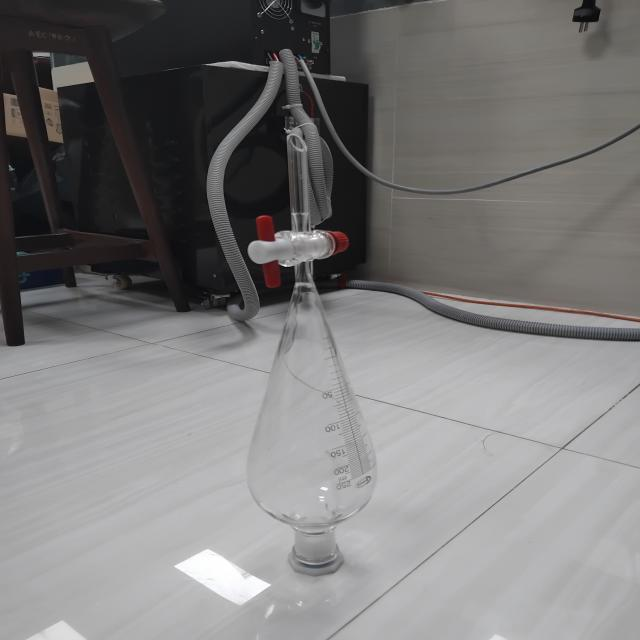Separating_Funnel: (217, 117, 432, 598)
